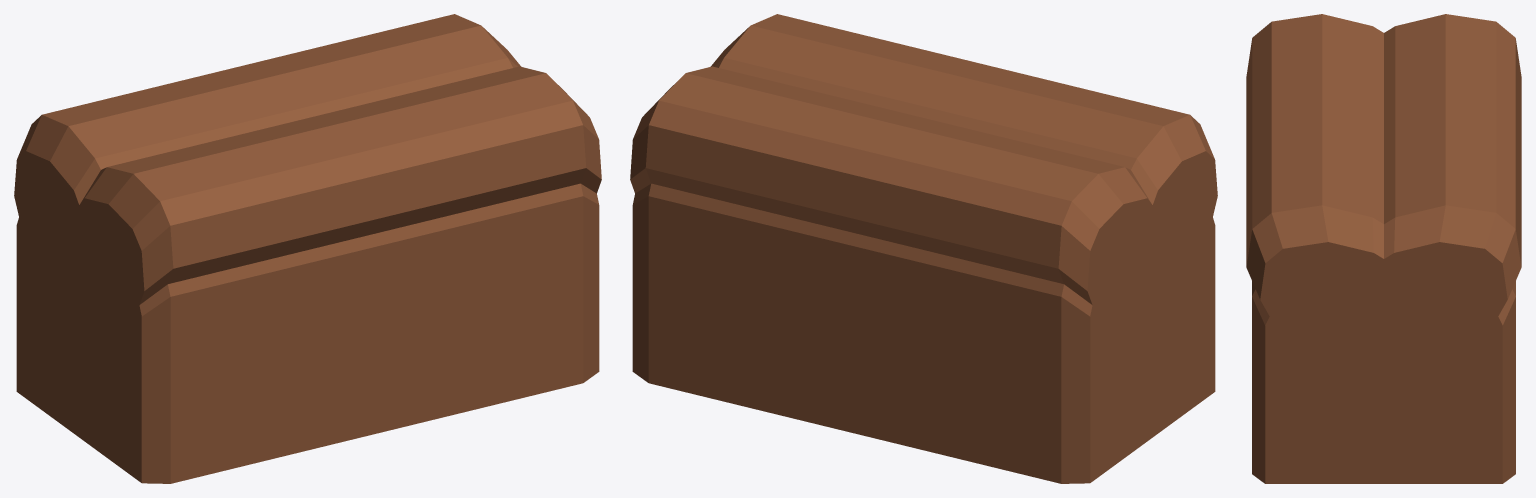
File: bread.fbx
The picture shows the model from 3 angles, left to right: view 1: azimuth 30°, elevation 25°; view 2: azimuth 150°, elevation 25°; view 3: azimuth 270°, elevation 25°; orthographic projection. The views are drawn at different scales.
Parts seen in each view (by area): view 1: bread, bread slice, bread end; view 2: bread, bread slice, bread end; view 3: bread end, bread, bread slice.
Boxes of the visible parts, x1,y1,x2,y2 form: bread: (14,22,552,483); bread slice: (421,14,586,391); bread end: (482,26,601,382); bread: (679,22,1217,483); bread slice: (645,14,810,391); bread end: (630,26,749,382); bread end: (1246,205,1521,483); bread: (1246,14,1521,251); bread slice: (1246,190,1521,295).
Size of the model in its own units: 0.76 by 0.4495 by 0.4167.
